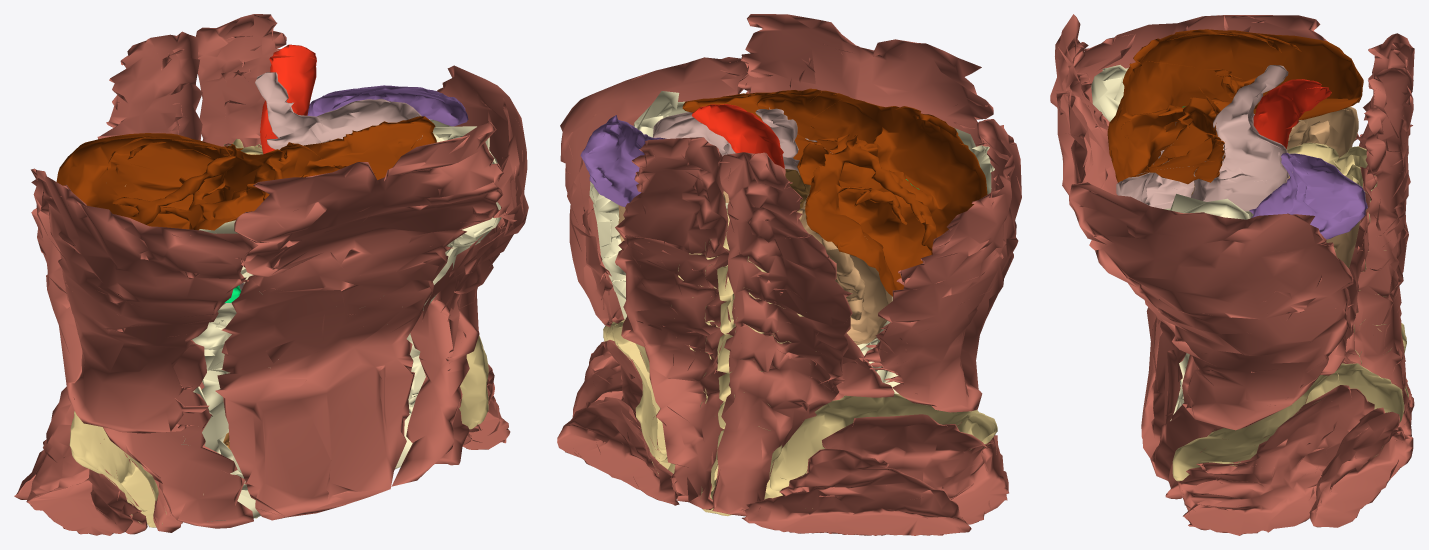
The model's file is abdomen.glb.
3 renders of one model, left to right at view 1: azimuth 30°, elevation 25°; view 2: azimuth 150°, elevation 25°; view 3: azimuth 270°, elevation 25°, orthographic. The views are drawn at different scales.
Parts seen in each view (by area): view 1: abdominal_wall, liver, back_muscles, gluteal_muscles, intestines, pelvis, stomach, spleen, abdominal_aorta, hip_flexors; view 2: back_muscles, abdominal_wall, gluteal_muscles, liver, pelvis, intestines, spleen, right_kidney, abdominal_aorta, stomach, lumbar_spine; view 3: abdominal_wall, liver, gluteal_muscles, back_muscles, stomach, pelvis, spleen, abdominal_aorta, intestines, right_kidney, lumbar_spine, left_kidney.
Part boxes in pixels (x1,y1,x2,y2): abdominal_wall: (31,65,528,528); liver: (56,116,436,230); back_muscles: (97,14,309,147); gluteal_muscles: (14,364,510,535); intestines: (181,119,501,521); pelvis: (69,335,488,527); stomach: (239,72,422,290); spleen: (307,85,468,126); abdominal_aorta: (260,44,316,153); hip_flexors: (124,369,469,532); back_muscles: (615,137,894,516); abdominal_wall: (560,14,1021,412); gluteal_muscles: (557,340,1008,535); liver: (682,88,987,296); pelvis: (603,319,997,516); intestines: (589,91,994,393); spleen: (580,115,666,206); right_kidney: (797,193,892,344); abdominal_aorta: (691,104,784,168); stomach: (653,107,853,257); lumbar_spine: (671,208,816,430); abdominal_wall: (1050,14,1359,480); liver: (1107,29,1363,184); gluteal_muscles: (1178,356,1414,535); back_muscles: (1320,33,1414,442); stomach: (1116,65,1292,211); pelvis: (1172,323,1408,481); spleen: (1249,153,1367,239); abdominal_aorta: (1253,79,1331,148); intestines: (1091,65,1253,420); right_kidney: (1286,106,1358,157); lumbar_spine: (1287,142,1391,364); left_kidney: (1286,176,1360,268).
Bounding box in the file's own units: 0.2063 × 0.1665 × 0.1498.
